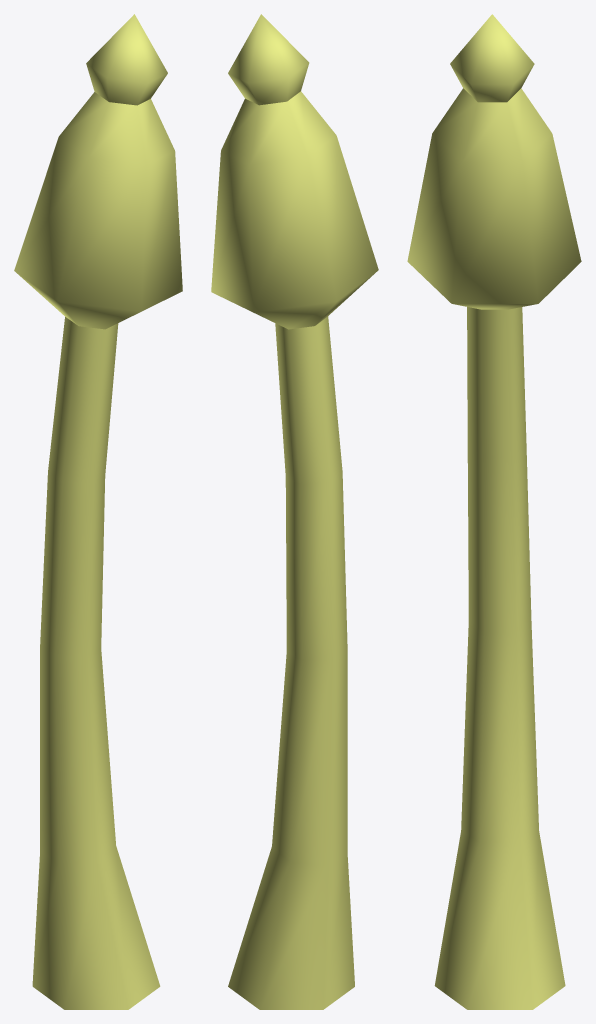
File: fabulous_mushroom_001.glb
3 renders of one model, left to right at view 1: azimuth 30°, elevation 25°; view 2: azimuth 150°, elevation 25°; view 3: azimuth 270°, elevation 25°, orthographic. The views are drawn at different scales.
Visible parts, largest first — view 1: fabulous_mushroom_001; view 2: fabulous_mushroom_001; view 3: fabulous_mushroom_001.
Boxes of the visible parts, bbox=[...] form: fabulous_mushroom_001: bbox=[14, 14, 182, 1009]; fabulous_mushroom_001: bbox=[211, 14, 378, 1009]; fabulous_mushroom_001: bbox=[407, 14, 581, 1009].
Bounding box in the file's own units: 0.2896 × 2.11 × 0.3369.
Materials: 1 (1 with a texture image).
